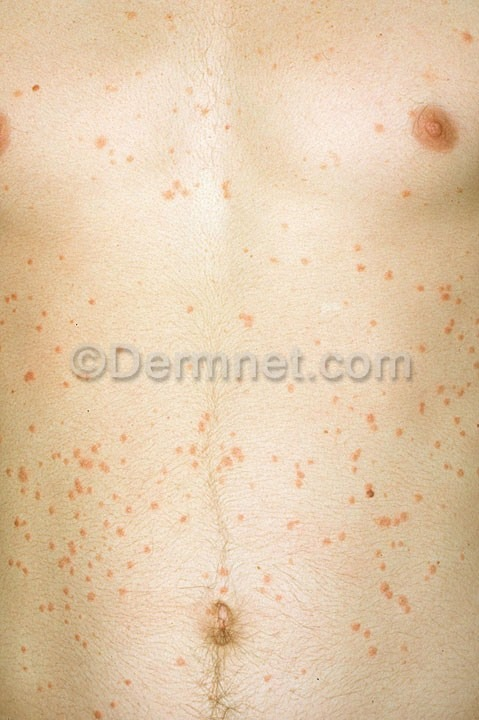Psoriasis: (5, 413, 248, 599), (319, 388, 460, 632), (94, 89, 290, 233), (17, 604, 170, 713), (329, 239, 474, 354), (3, 247, 96, 380), (256, 438, 318, 614)
